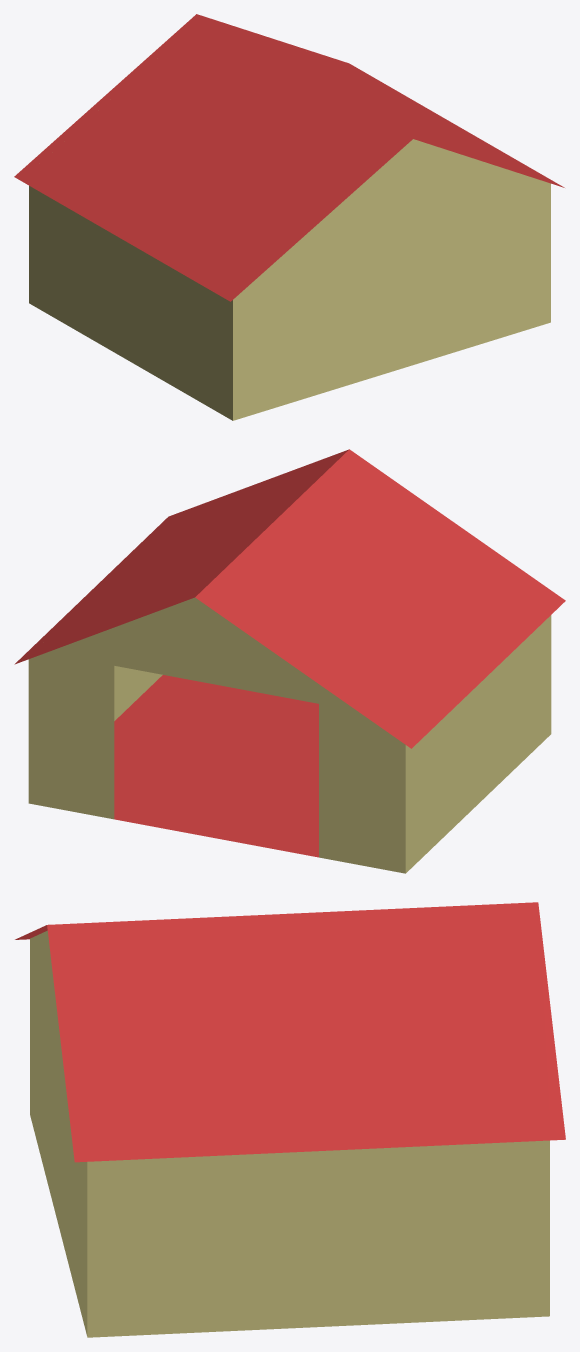
3 views of the same model, one above another, from view 1: azimuth 30°, elevation 25°; view 2: azimuth 150°, elevation 25°; view 3: azimuth 270°, elevation 25° (orthographic). The views are drawn at different scales.
Bounding box in the file's own units: 21.13 × 19.11 × 11.93.
